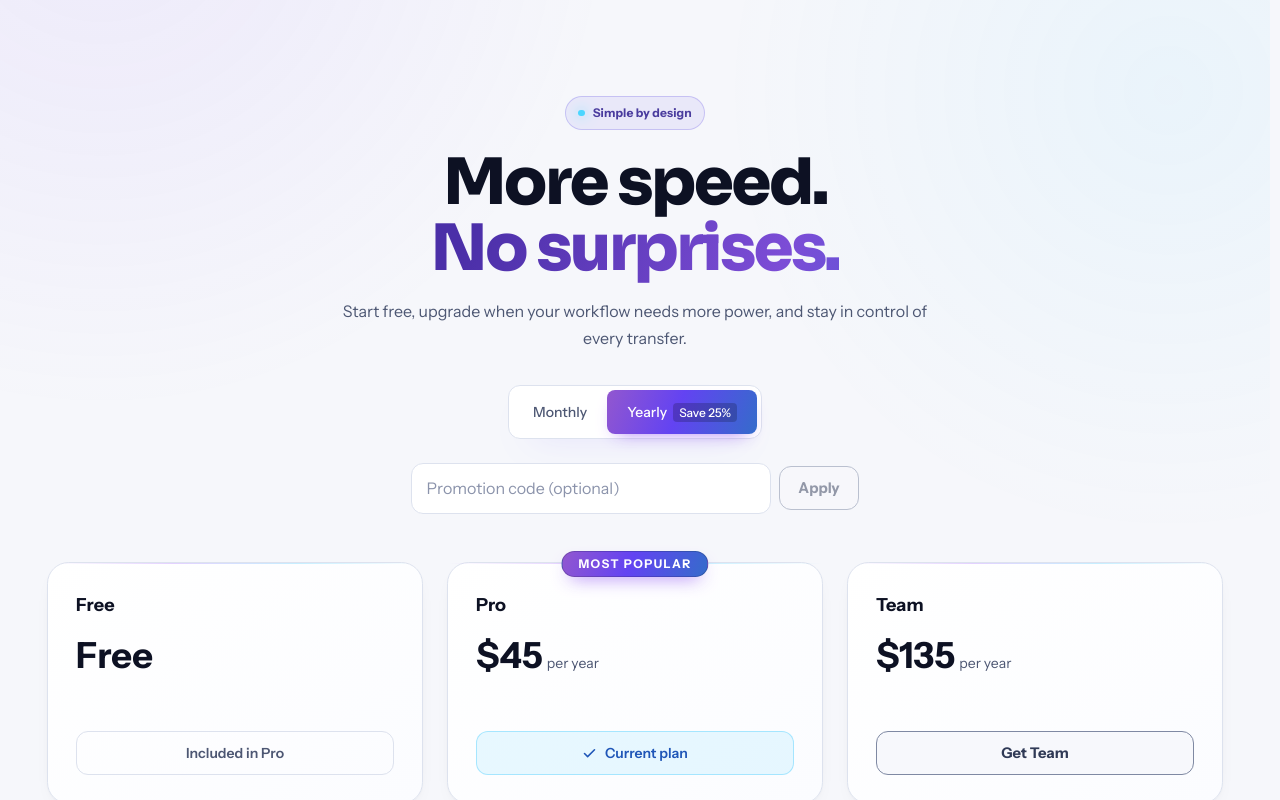
Pricing — an account Stripe already bills › answers a 409 ALREADY_SUBSCRIBED with a way to Billing, and refreshes the account
The width and height of the screenshot is (1280, 800).
Click the button "Get Team".
click(1035, 753)  # box [876, 731, 1194, 775]
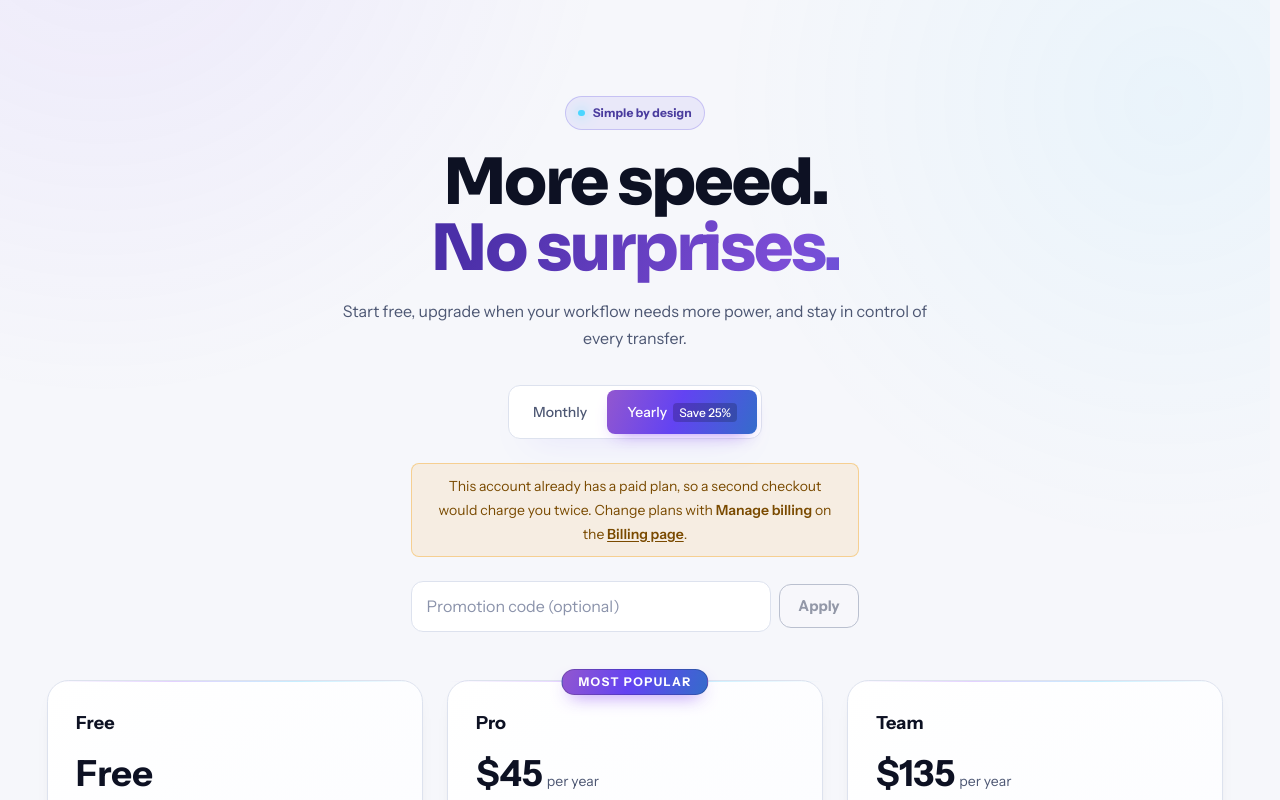
Now the message shows "already has a paid plan", box [438, 477, 821, 519]
Now the link to "/billing" is shown, box [607, 525, 684, 543]
